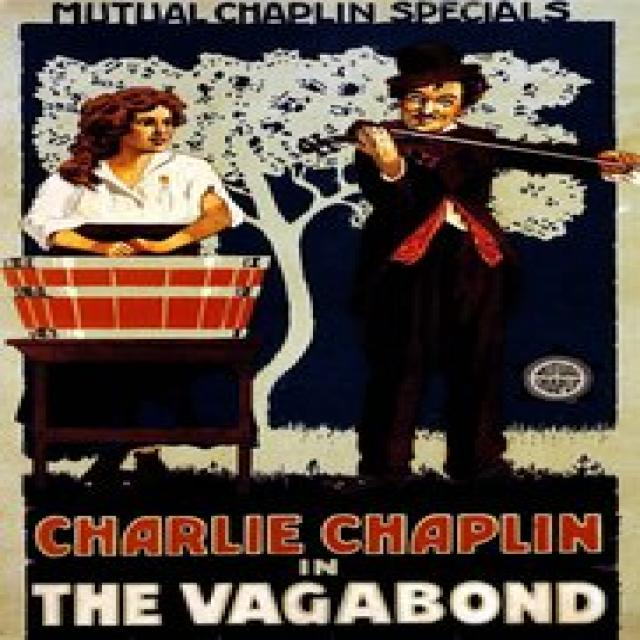movie-judul: (27, 512, 610, 628)
picture: (22, 26, 618, 496)
